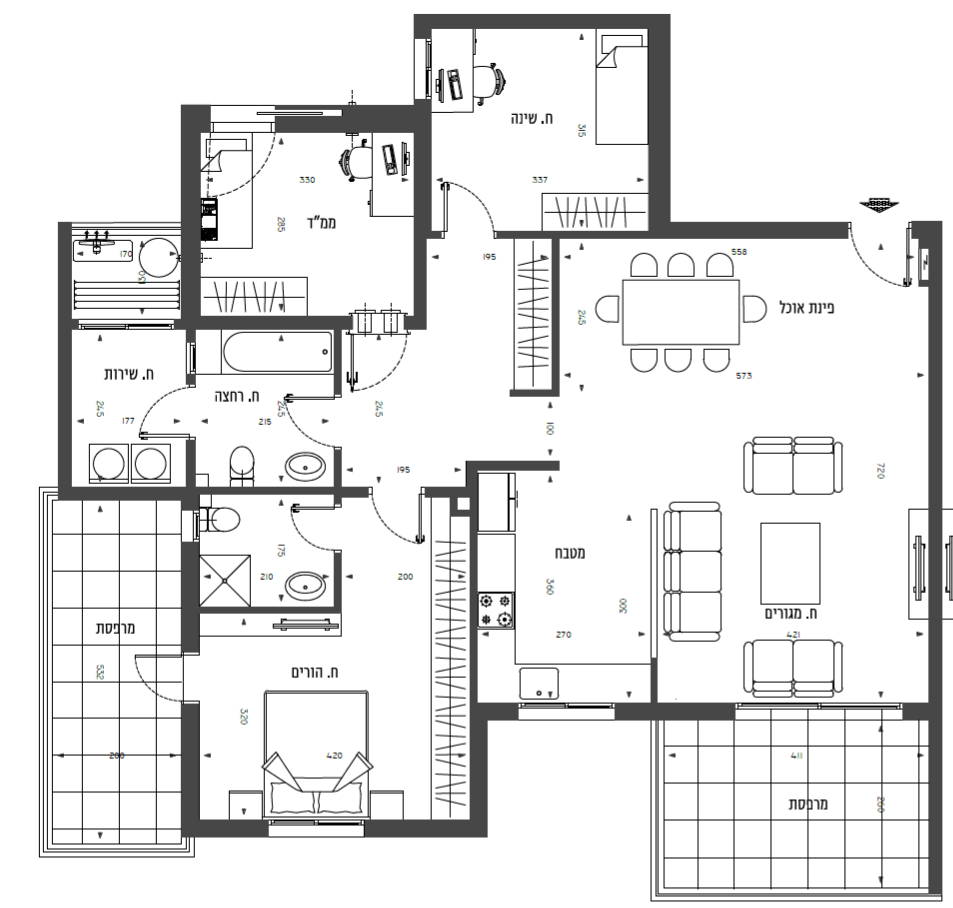door: (347, 339, 409, 401), (438, 163, 500, 225), (369, 504, 430, 558), (135, 385, 196, 439), (283, 496, 332, 561), (287, 389, 336, 454)
wall: (928, 220, 941, 898), (649, 11, 671, 236), (183, 102, 199, 333), (365, 818, 487, 837), (183, 707, 199, 836)
window: (737, 702, 817, 711), (822, 702, 898, 711)
